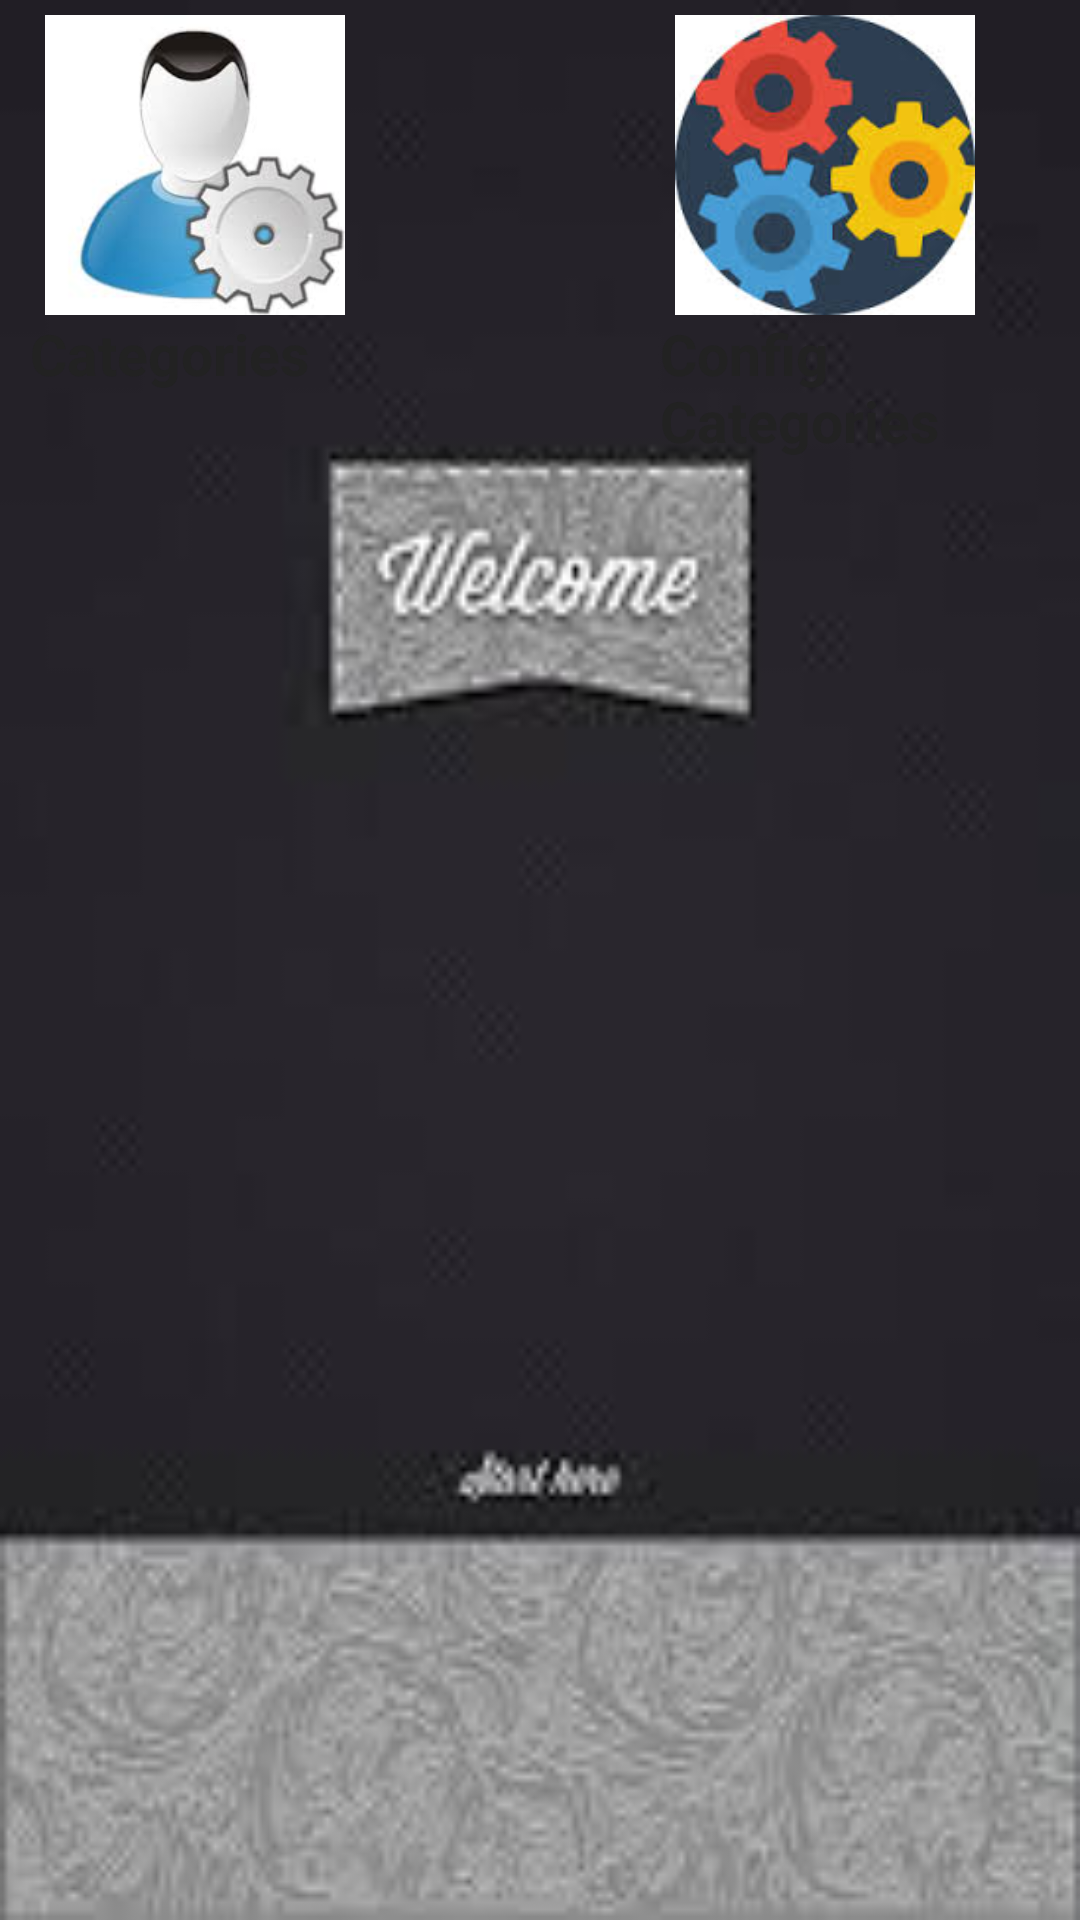

Screen size 1080×1920. Icon name, then its box in pixels as (x1, y1, x2, y2):
settings: (675, 15, 975, 315)
